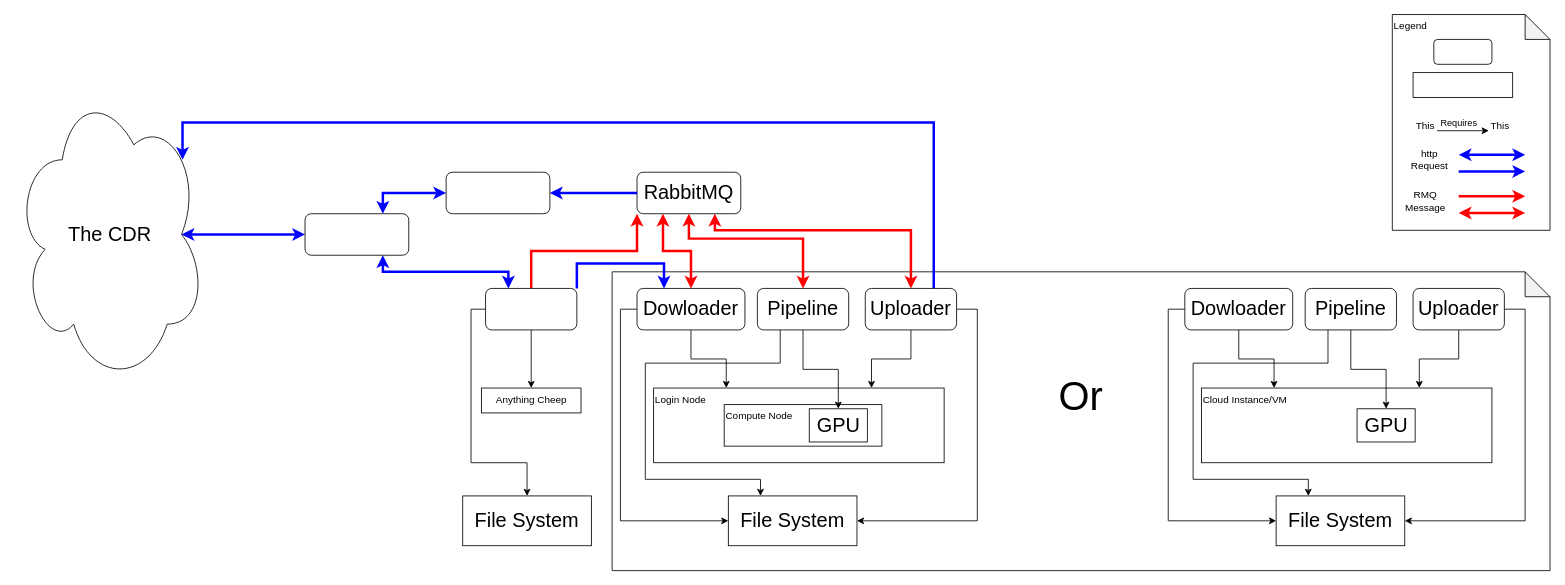
This 1565x585 diagram has some shape labels left out. The shapes that lost their labels are listed below. From the top down, each one's centre as x and y in pixels, then its label:
At point (1462, 51): "Container".
At point (1462, 85): "physical system".
At point (497, 192): "Monitor".
At point (356, 234): "traefik".
At point (531, 309): "cdrhook".
